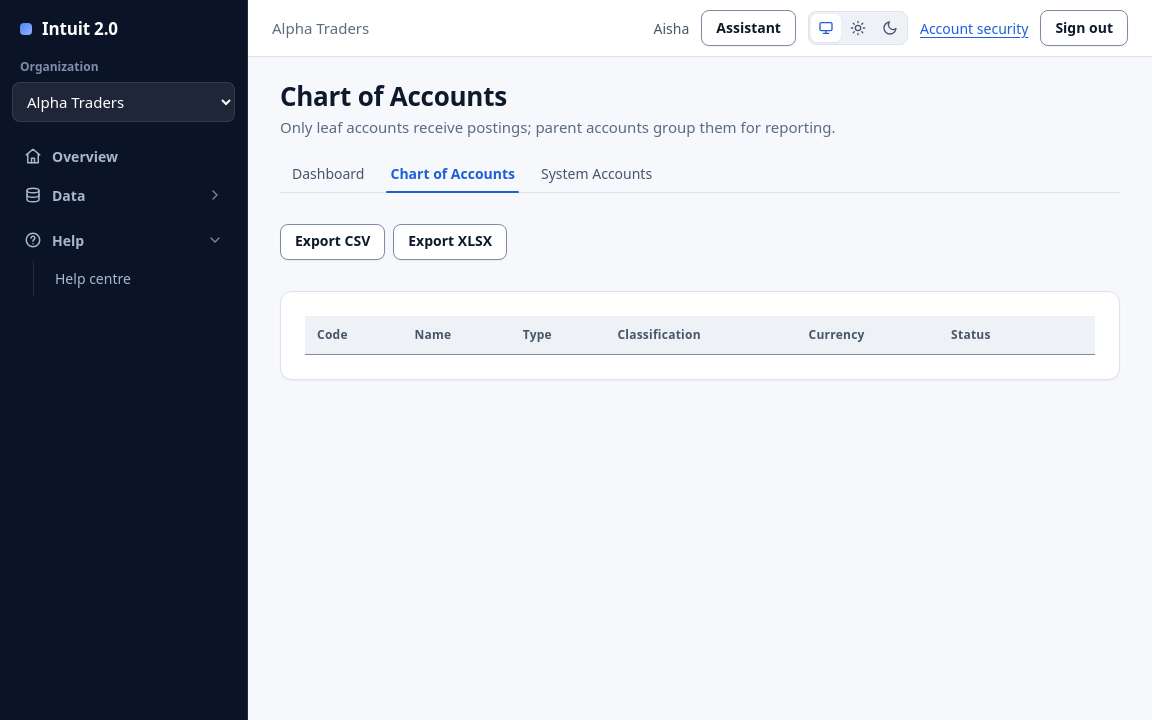
Scenario: exports › shows a failed export with its reason
Click the button "Export CSV".
click(333, 242)  # box x1=280 y1=224 x2=385 y2=260
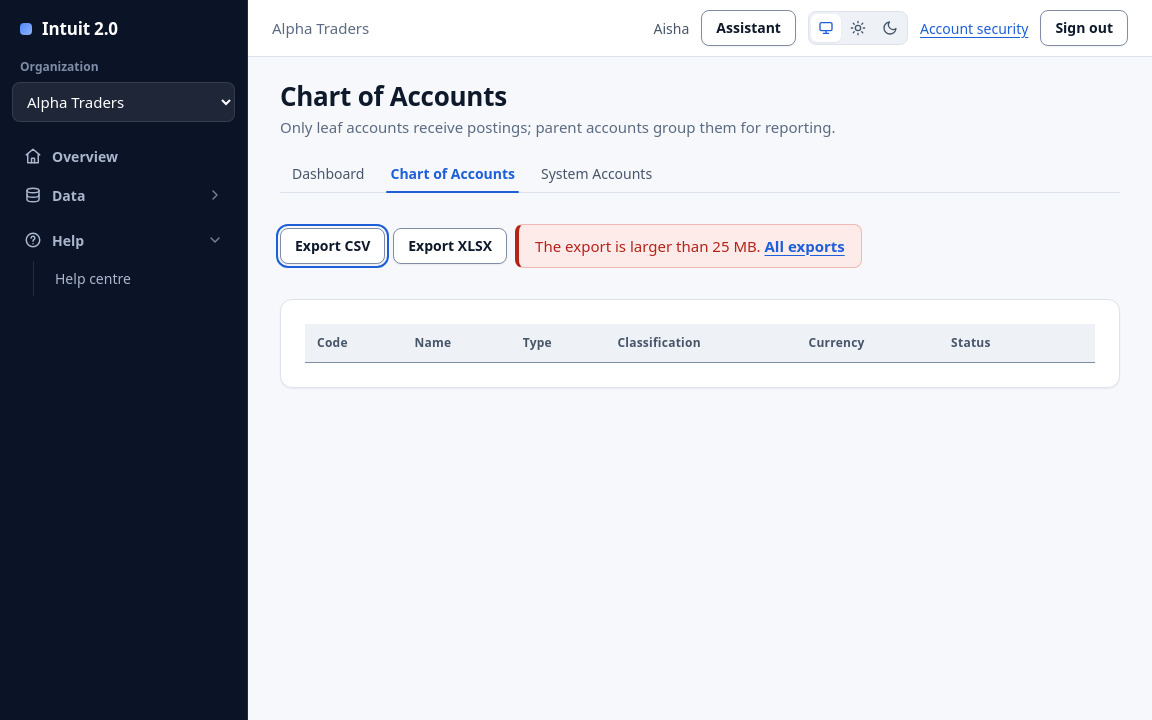
Result: the text "The export is larger than 25 MB. All exports" is shown at x1=515 y1=224 x2=862 y2=268
